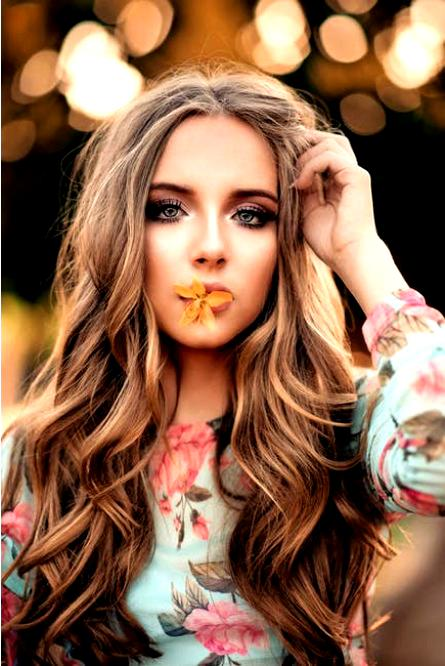face: (148, 119, 279, 349)
